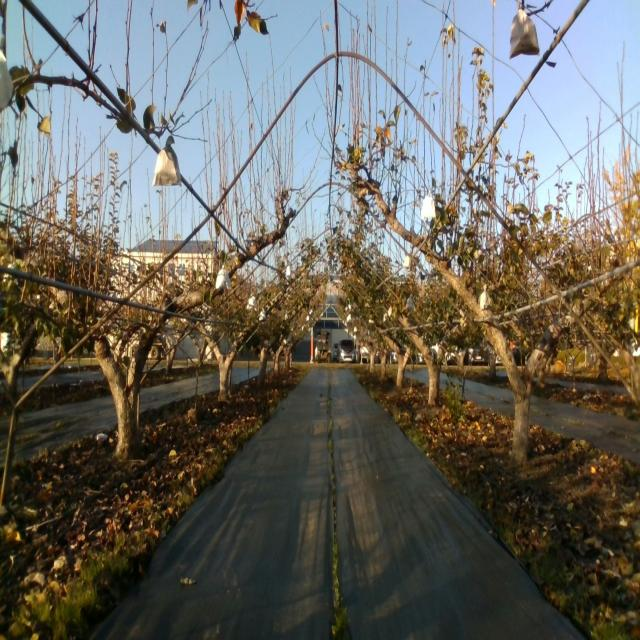pearbags: (508, 3, 542, 59), (153, 147, 183, 188), (215, 263, 231, 291), (421, 192, 435, 220), (480, 283, 491, 310), (246, 294, 258, 312)
